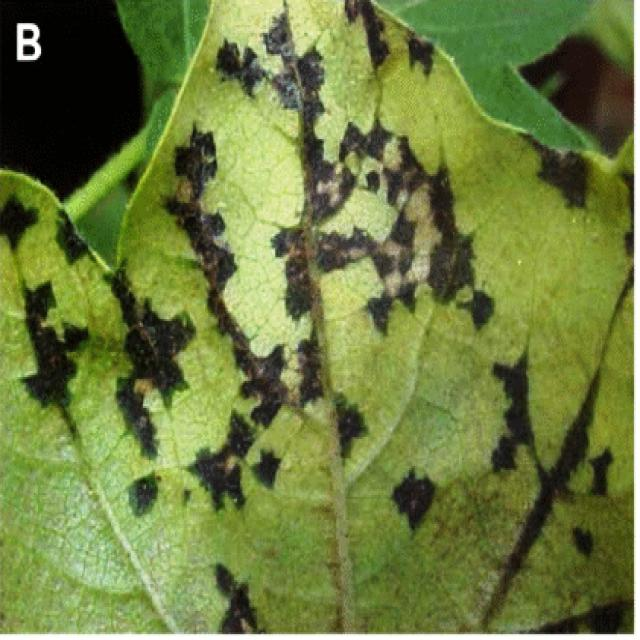Bacterial Blight: (162, 34, 458, 436)
